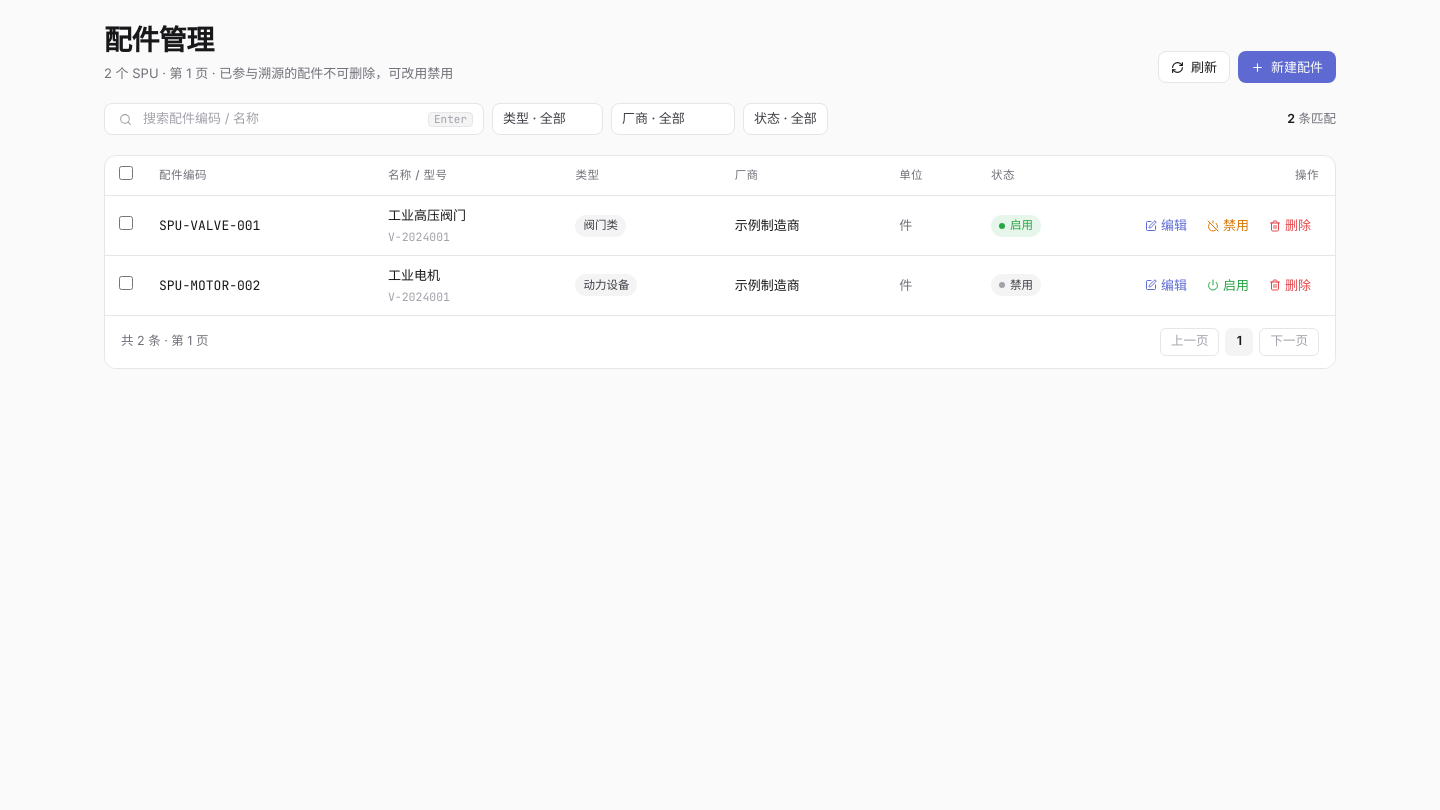
it: PartList smoke › shows readonly status pill in edit dialog reflecting current enabled state
Step 1. Click the button with test id "part-table-row-edit" in the row of "SPU-MOTOR-002" → point(1166, 285), box [1137,272,1195,299]
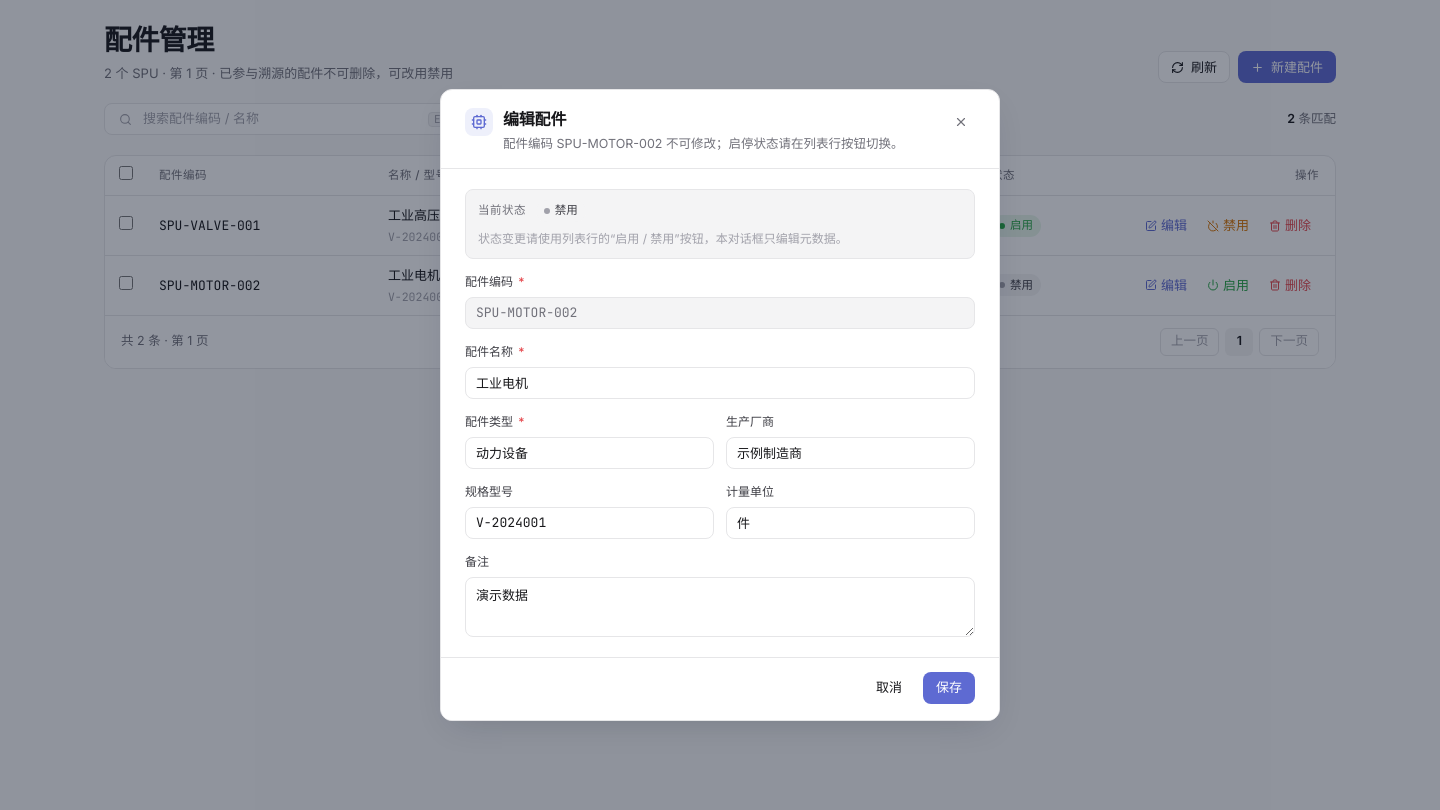
Result: the element with test id "part-form-status" is shown at [465,189,975,259]
Result: the element with test id "part-form-status" shows "禁用" at [555,203,578,217]
